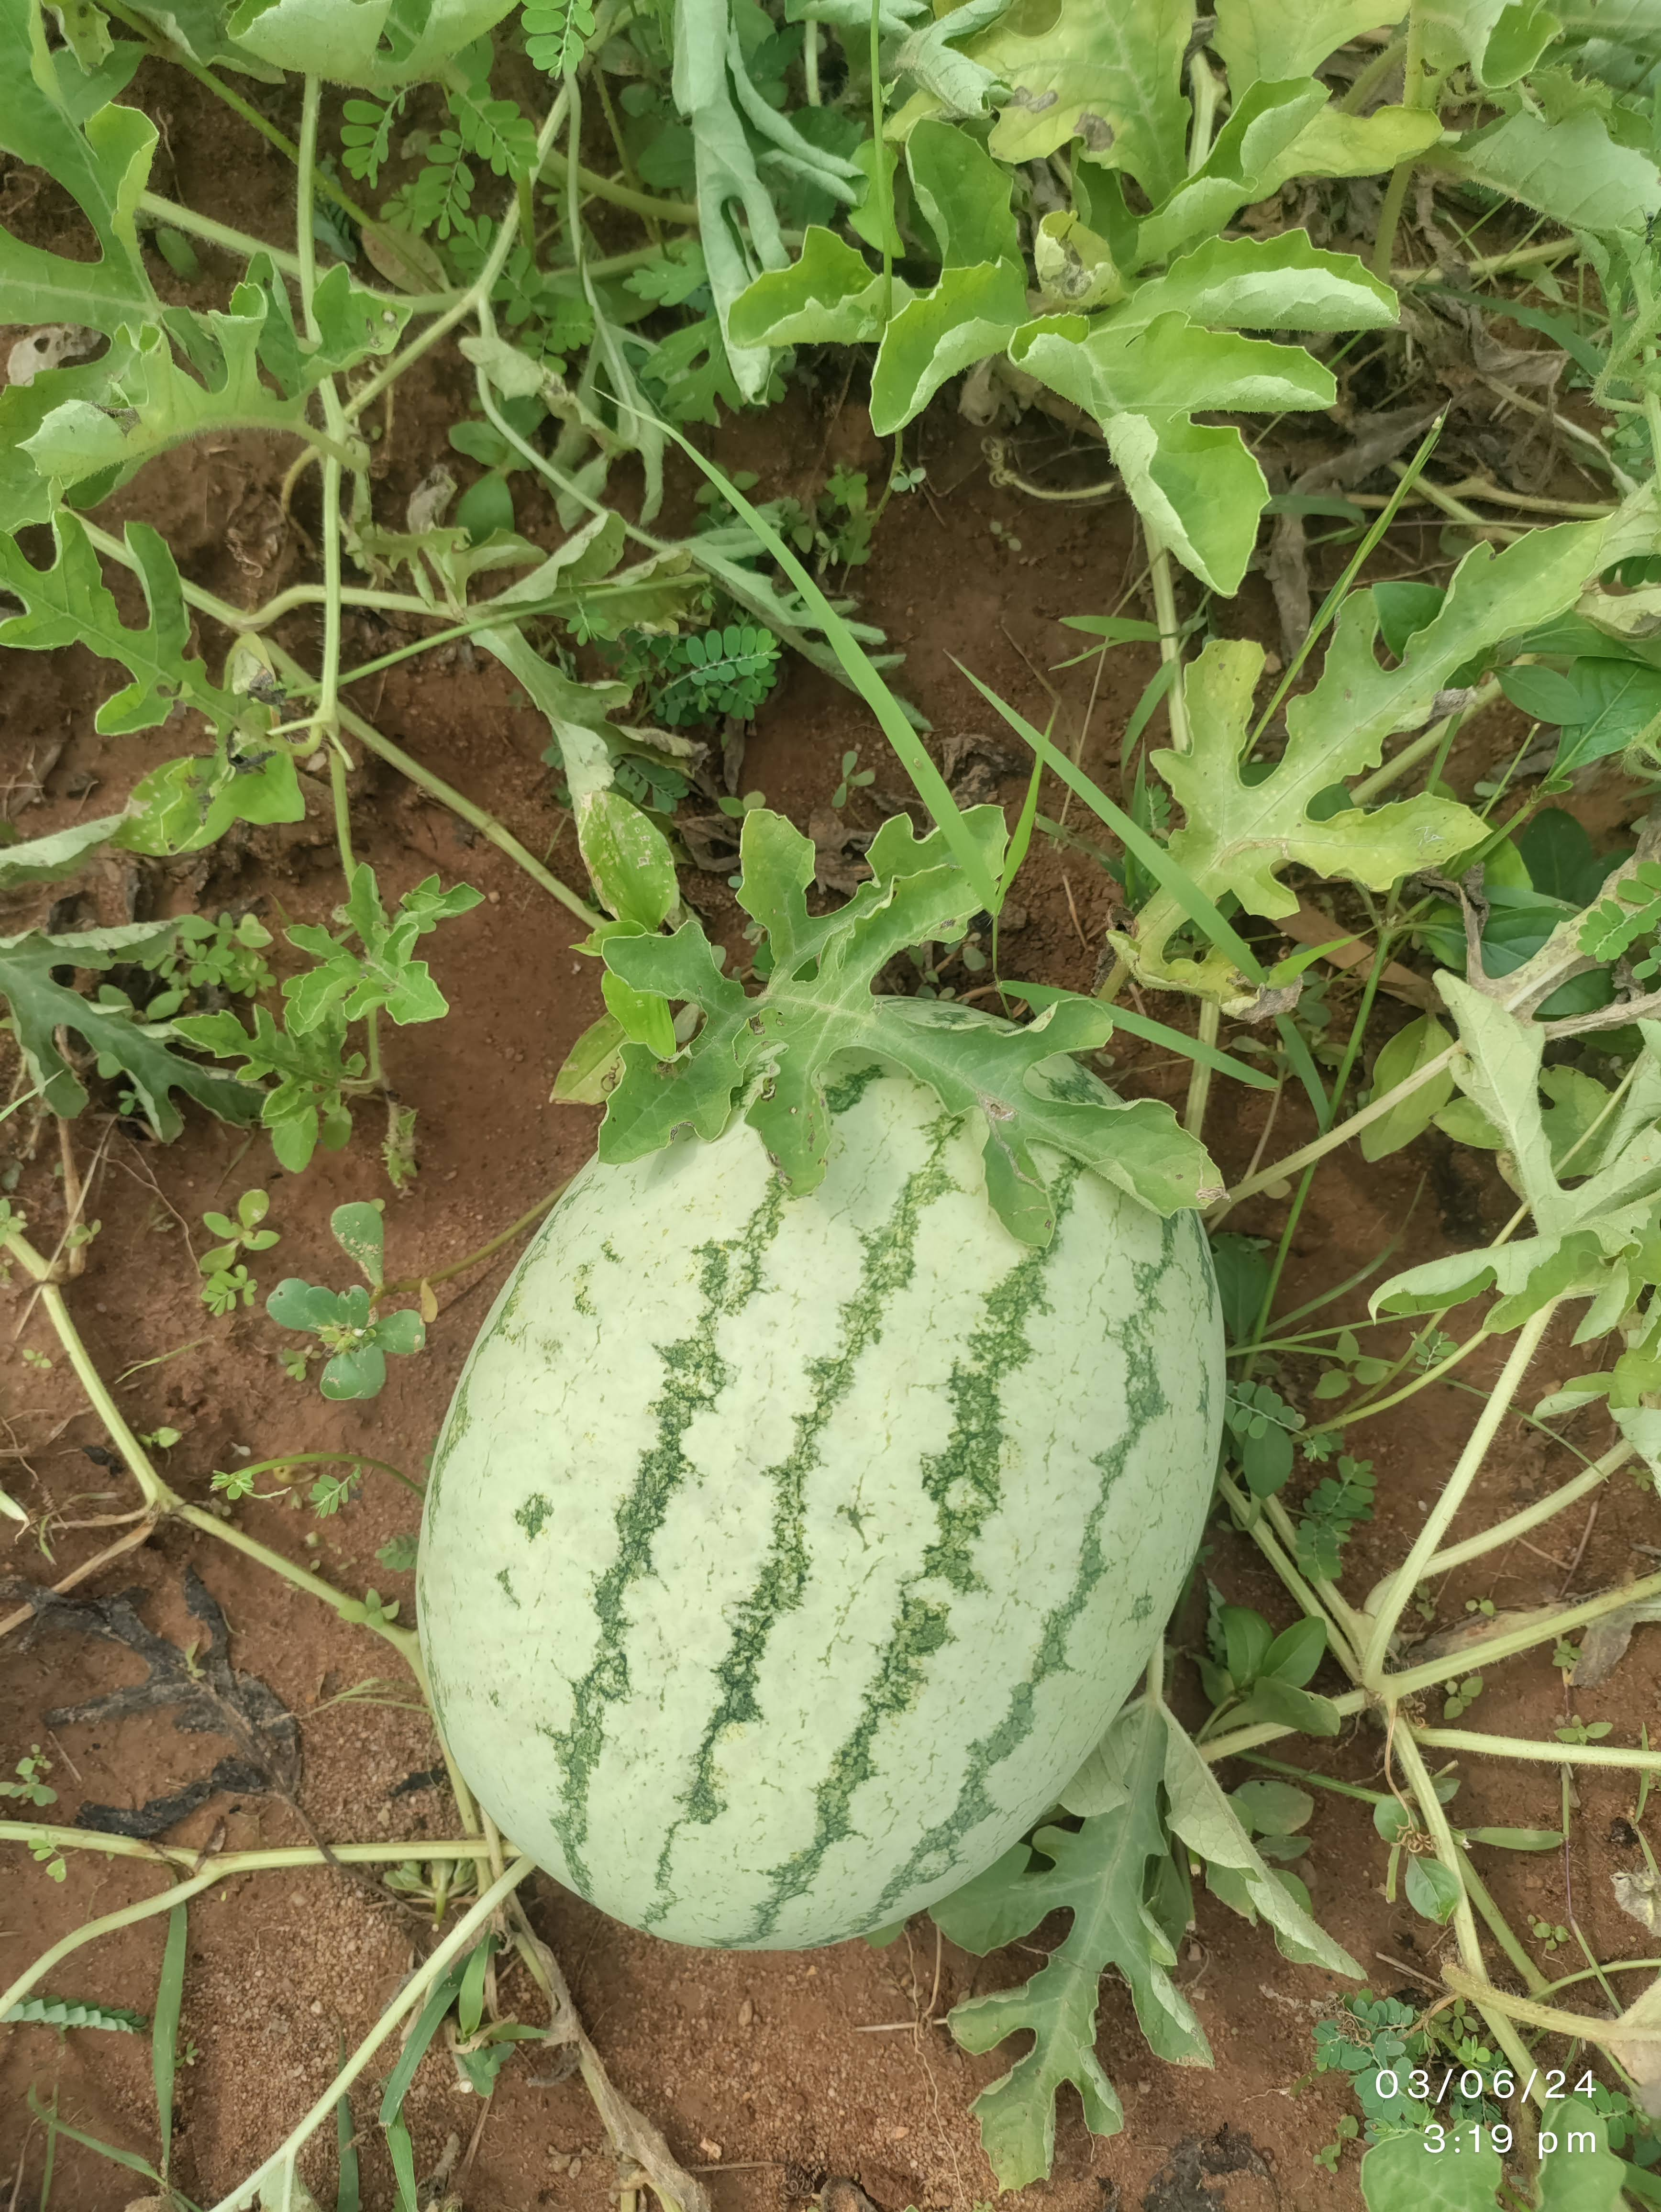good-to-harvest: (417, 825, 1221, 2090)
